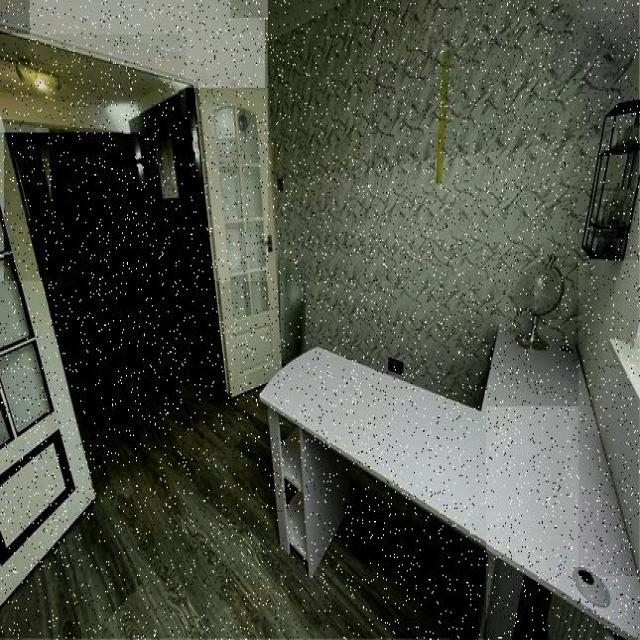Wall: (0, 283, 486, 639), (268, 0, 640, 406), (30, 0, 265, 88), (5, 124, 123, 290), (579, 261, 640, 576), (0, 35, 186, 132), (230, 1, 290, 18)
